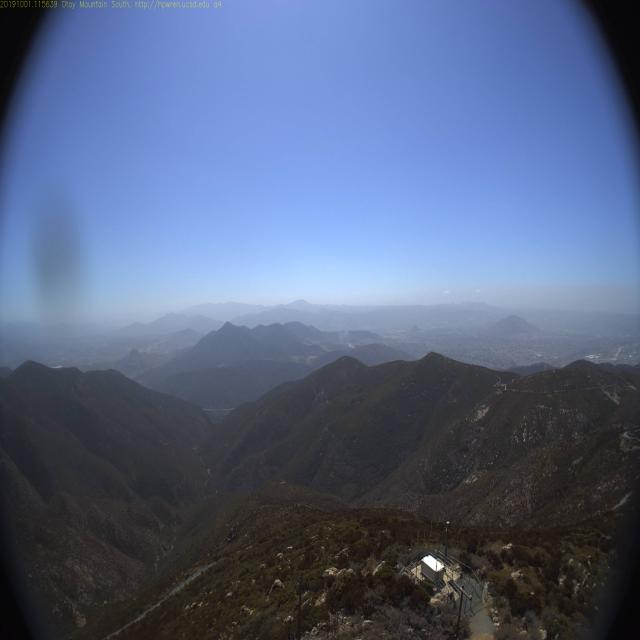smoke: (334, 319, 360, 353)
